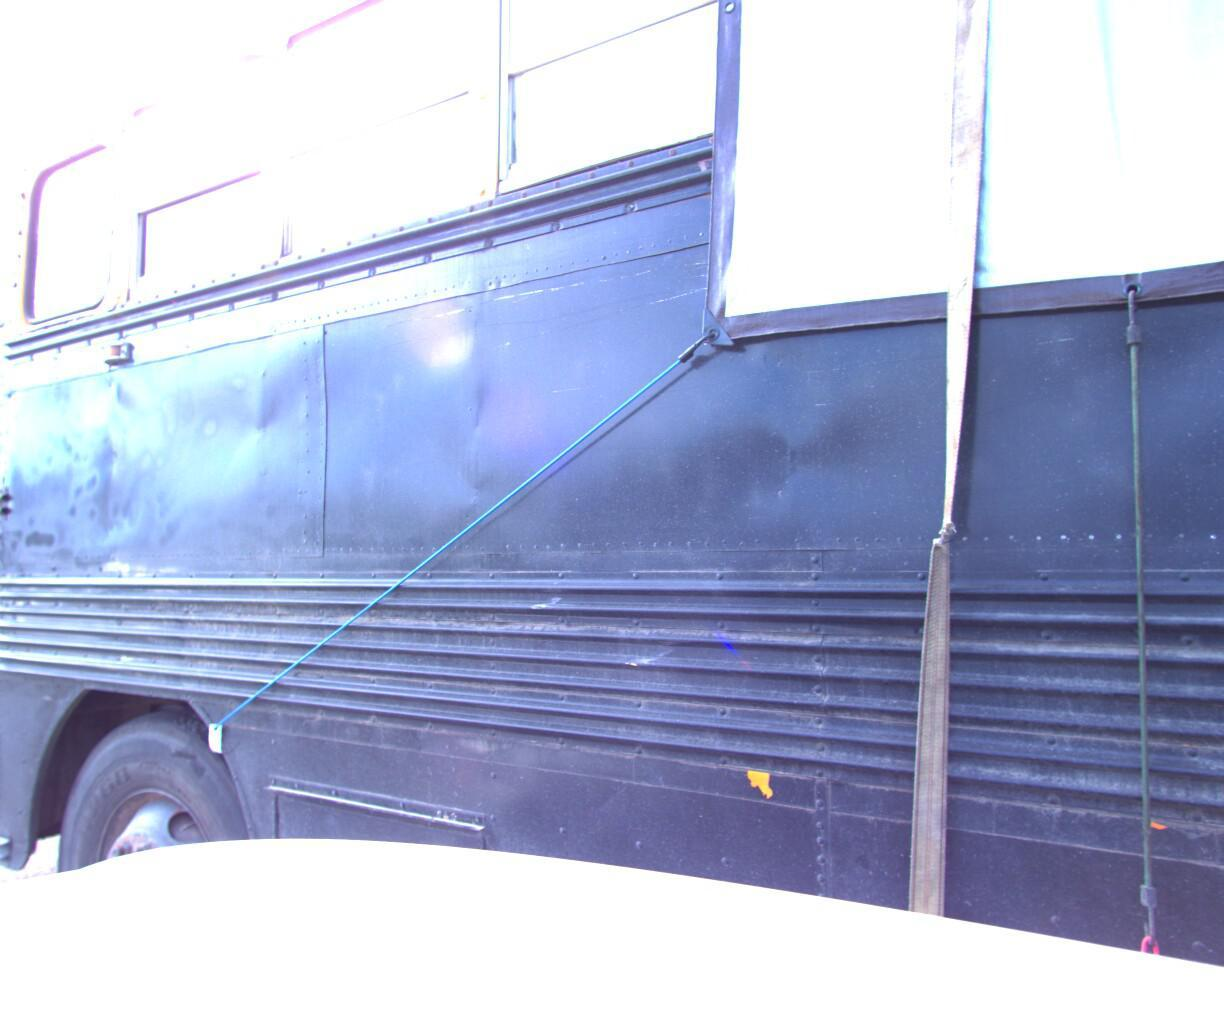car: (0, 505, 36, 823)
